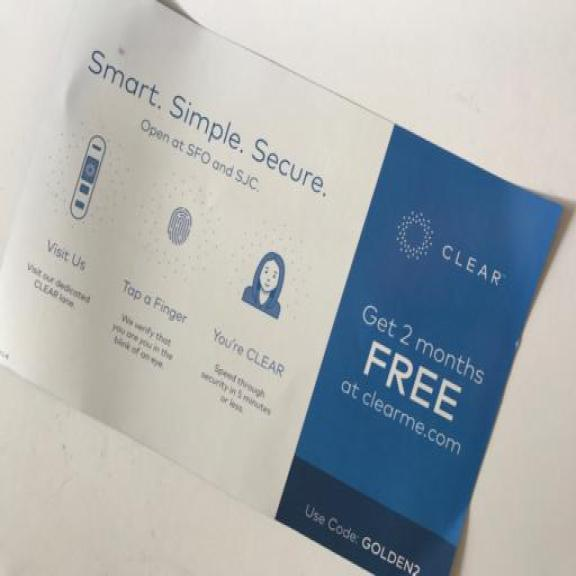Kertas: (2, 0, 567, 568)
